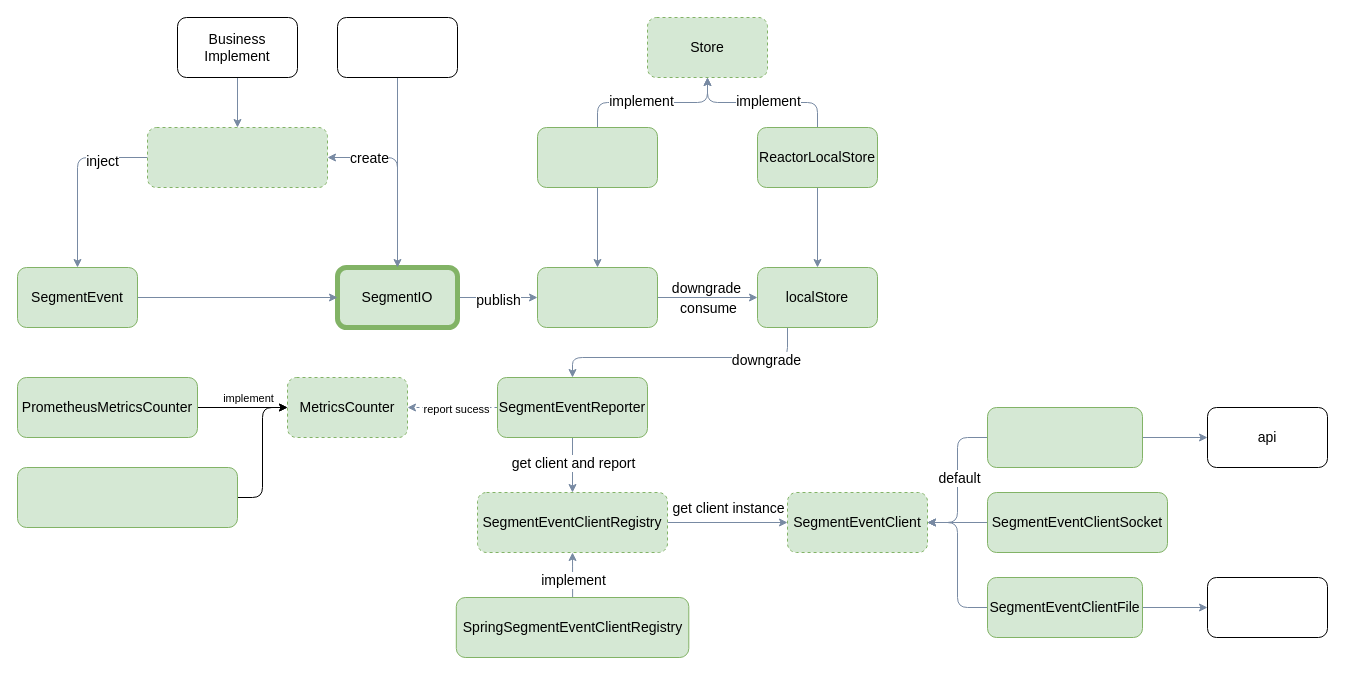
Image size: 1345x675. Some labels were removed from this diagram. The centre of each missing label's shape, as x and y in pixels:
Business start: [397,47]
distributedStore: [597,297]
RabbitRemoteStore: [597,157]
SegmentEventClientHttp: [1064,437]
SegmentEventGenerator: [237,157]
SpringPrometheusMetricsCounter: [127,497]
tmp/log: [1267,607]
